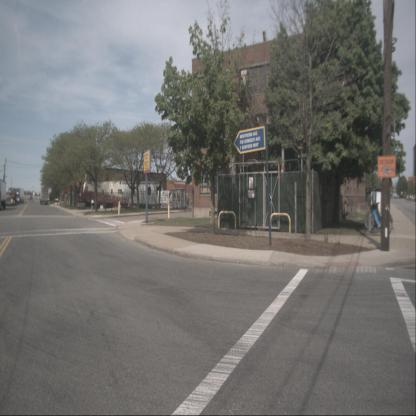vehicle-truck: (0, 178, 7, 211), (39, 186, 49, 205), (13, 187, 24, 204), (5, 190, 16, 206)
